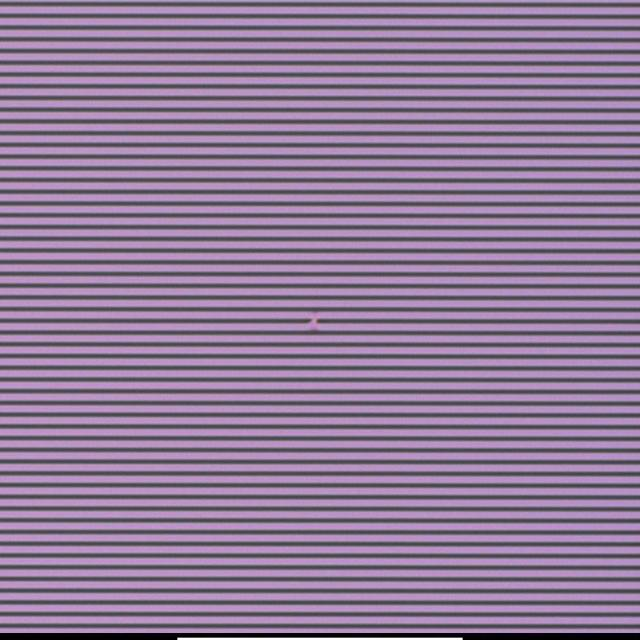03_intrusion: (300, 309, 326, 334)
